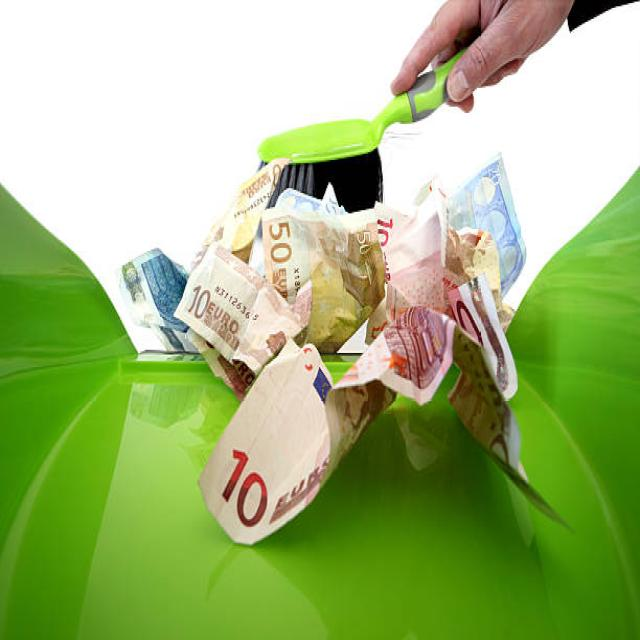paper: (137, 163, 528, 504)
